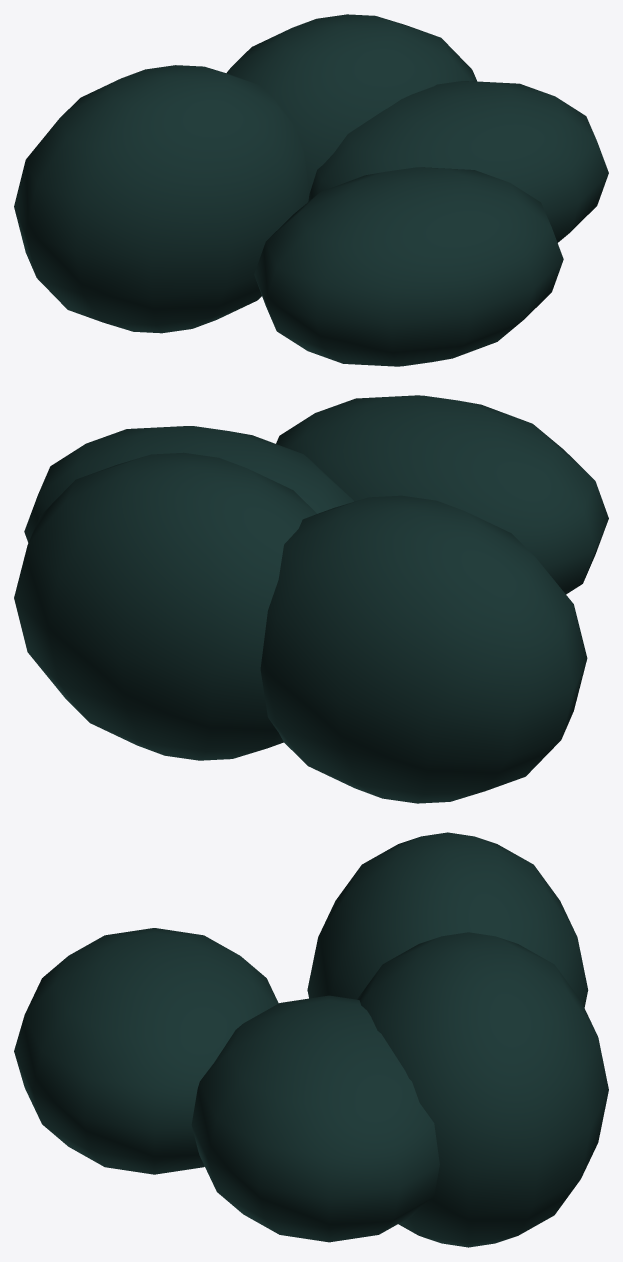
The model's file is payload_anoxic_organics_a.obj.
The picture shows the model from 3 angles, top to bottom: view 1: azimuth 30°, elevation 25°; view 2: azimuth 150°, elevation 25°; view 3: azimuth 270°, elevation 25°; orthographic projection. The views are drawn at different scales.
Parts seen in each view (by area): view 1: payload_piece.033, payload_piece.034, payload_piece.032, payload_piece.035; view 2: payload_piece.033, payload_piece.035, payload_piece.034, payload_piece.032; view 3: payload_piece.035, payload_piece.032, payload_piece.034, payload_piece.033.
Boxes of the visible parts, x1,y1,x2,y2 form: payload_piece.033: (14, 65, 309, 333); payload_piece.034: (254, 167, 563, 366); payload_piece.032: (308, 81, 608, 242); payload_piece.035: (226, 14, 477, 193); payload_piece.033: (260, 495, 587, 803); payload_piece.035: (14, 452, 316, 760); payload_piece.034: (276, 395, 608, 594); payload_piece.032: (24, 426, 353, 542); payload_piece.035: (357, 932, 608, 1247); payload_piece.032: (191, 995, 439, 1242); payload_piece.034: (14, 928, 278, 1174); payload_piece.033: (307, 832, 588, 1007).
Bounding box in the file's own units: 0.5806 × 0.26 × 0.5085.
